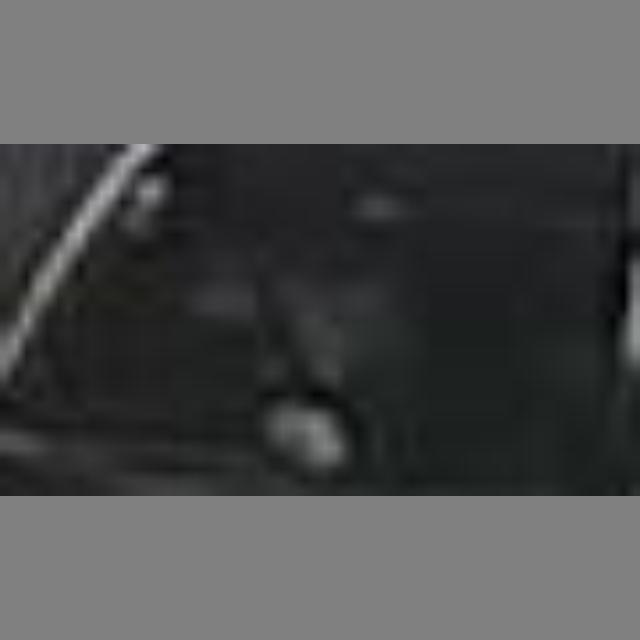pakai: (181, 251, 395, 400)
